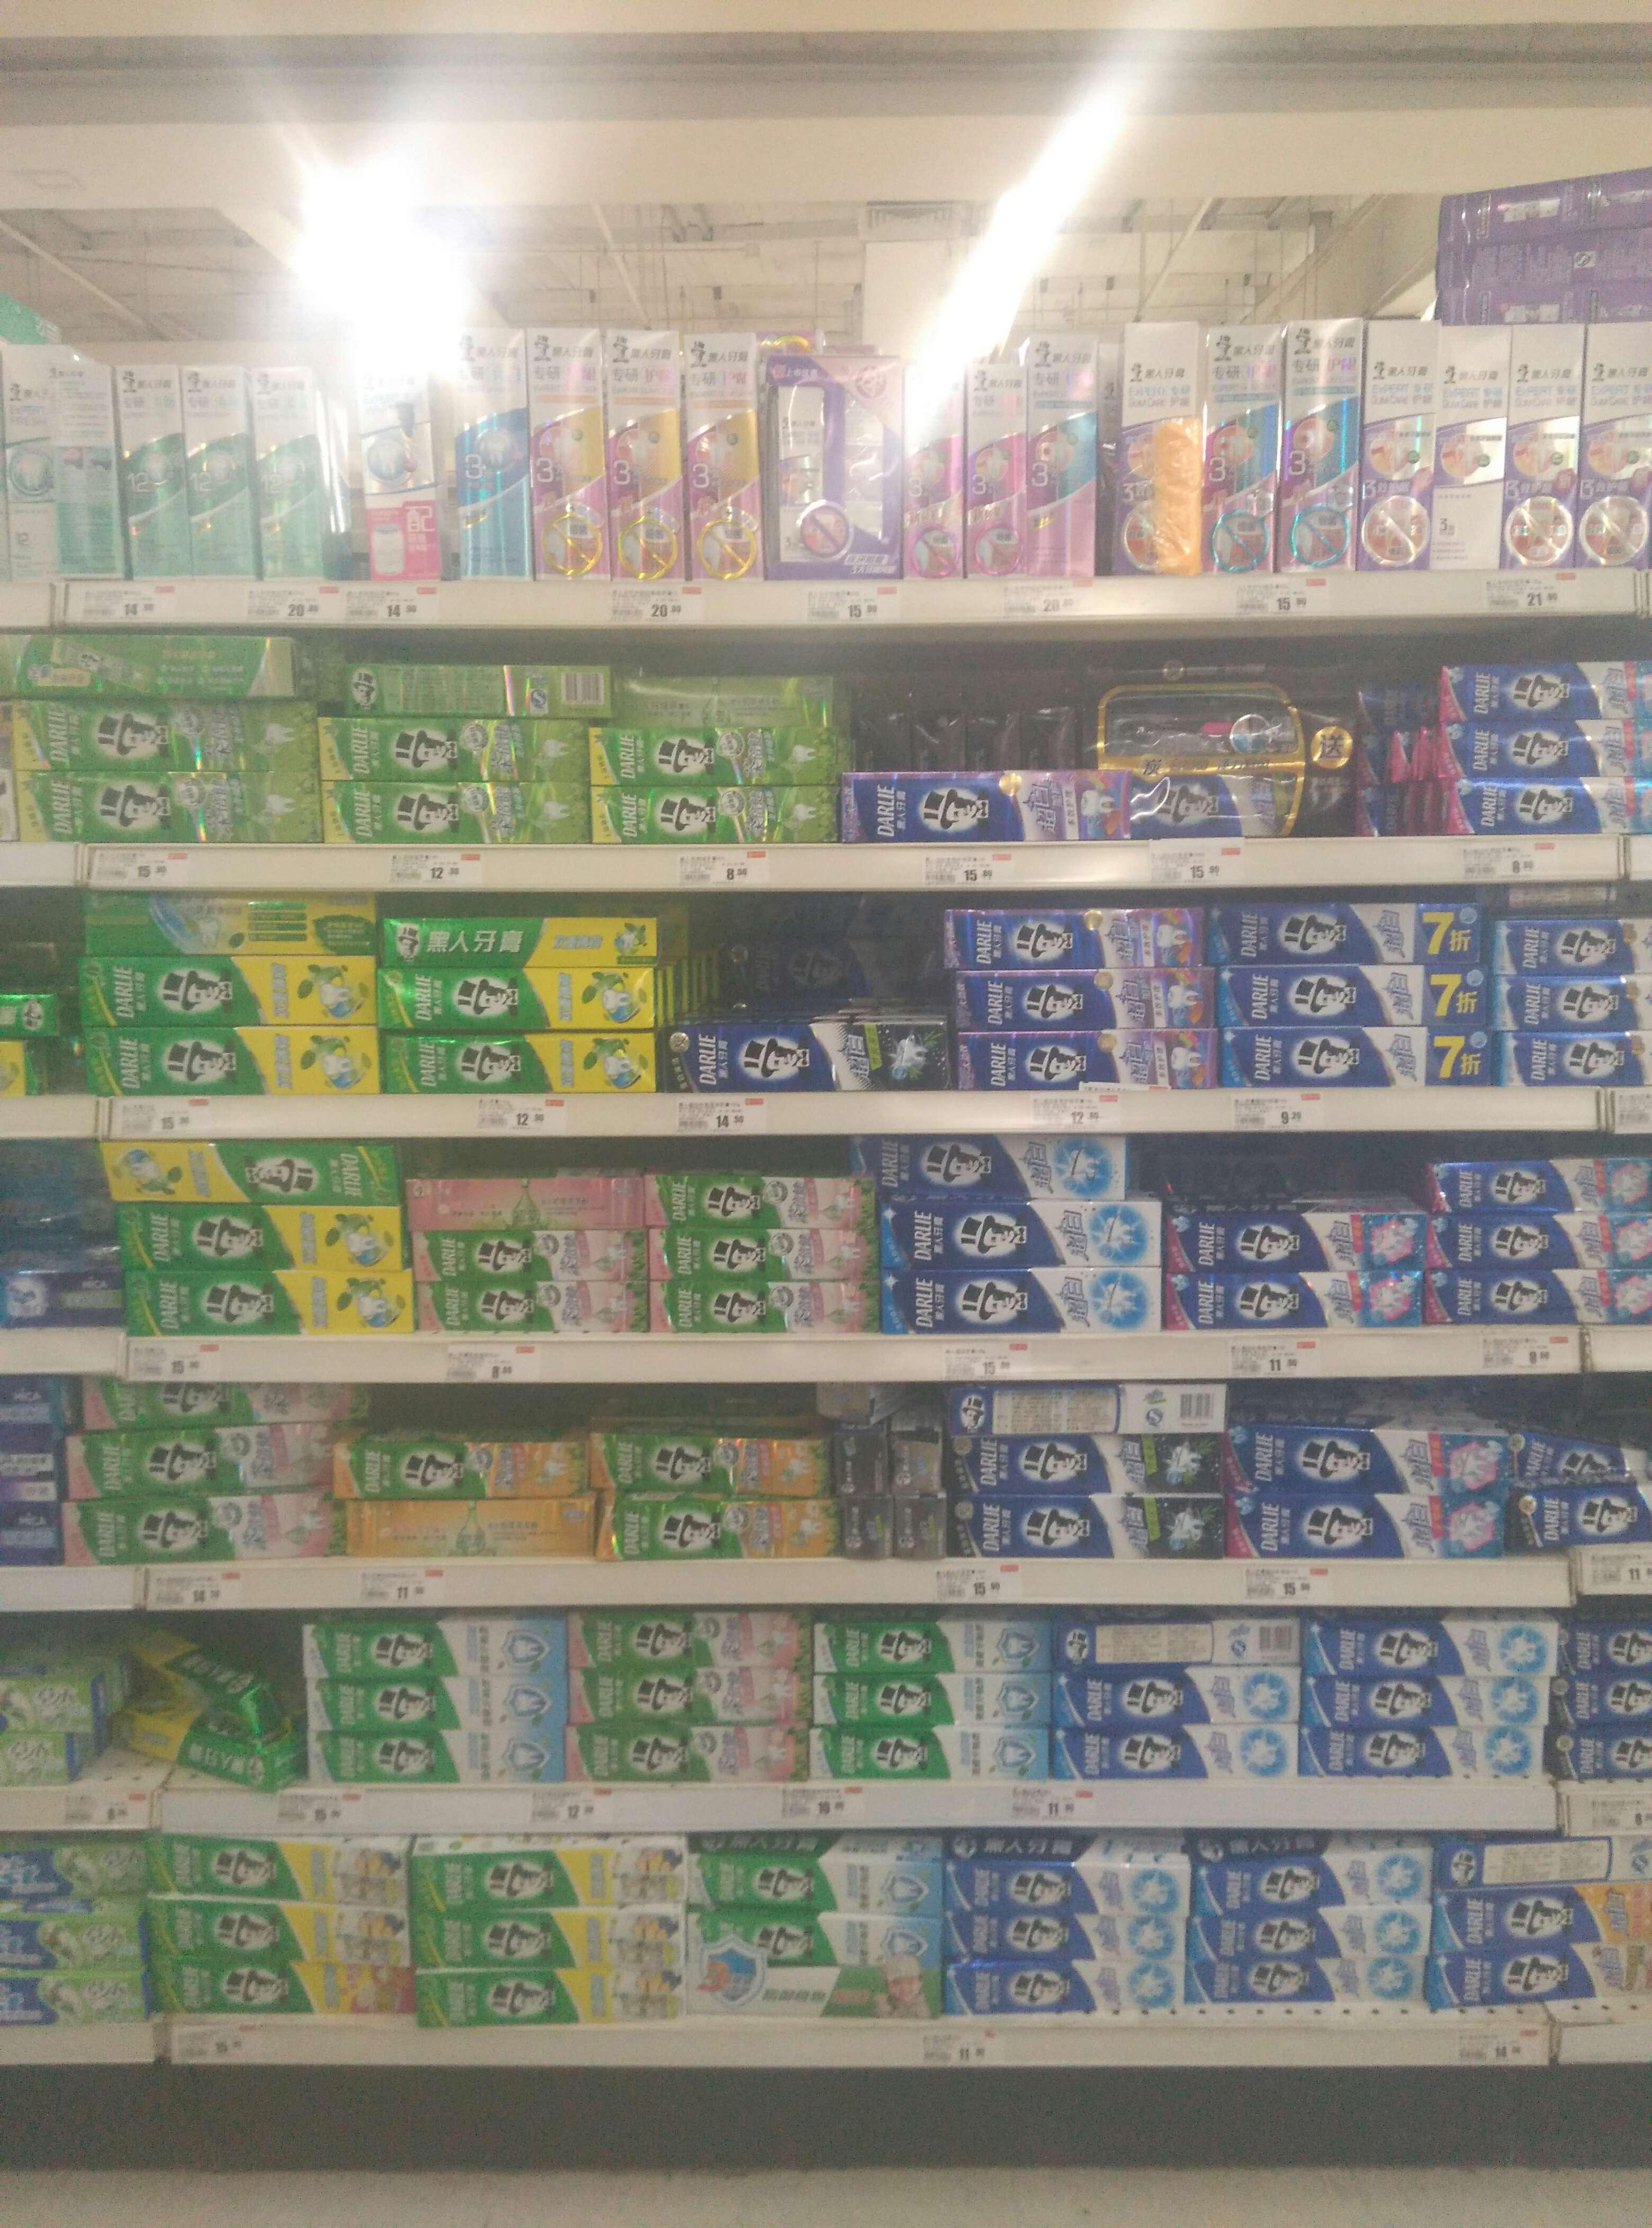misalignment: (134, 1621, 305, 1791), (1504, 1423, 1647, 1485)
